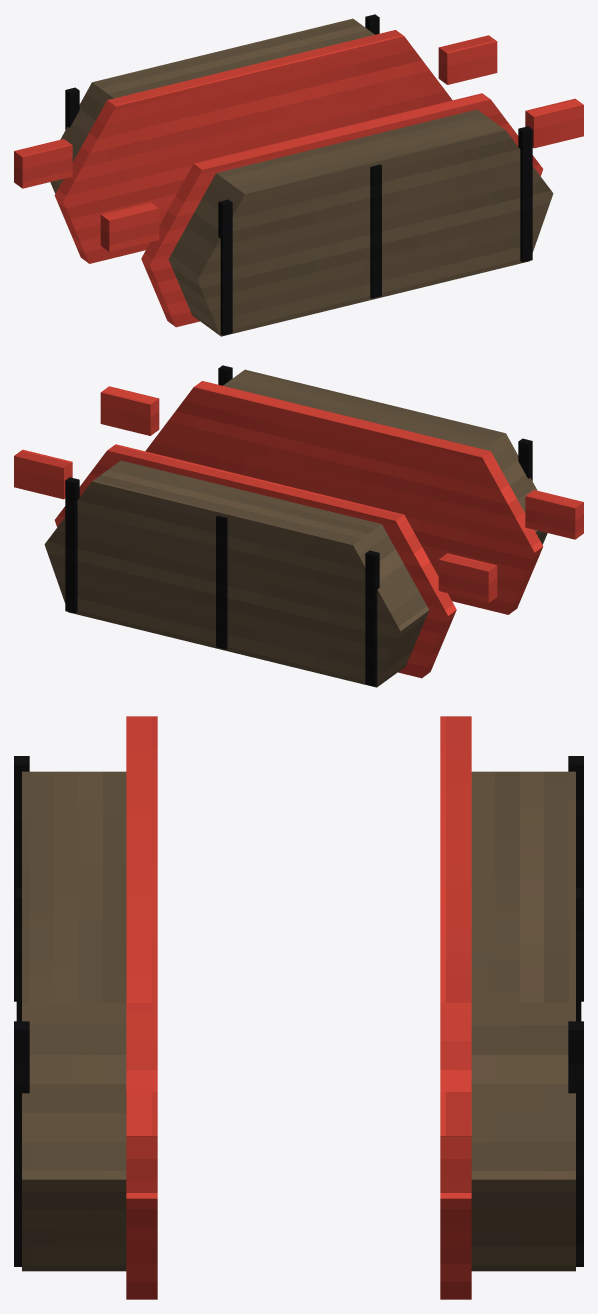
File: pastilhas_n4.glb
3 views of the same model, one above another, from view 1: azimuth 30°, elevation 25°; view 2: azimuth 150°, elevation 25°; view 3: azimuth 270°, elevation 25° (orthographic). The views are drawn at different scales.
Visible parts, largest first — view 1: pastilhas_n4; view 2: pastilhas_n4; view 3: pastilhas_n4.
Part boxes in pixels (x1,y1,x2,y2): pastilhas_n4: (14, 14, 583, 336); pastilhas_n4: (14, 365, 583, 687); pastilhas_n4: (14, 716, 583, 1299).
Bounding box in the file's own units: 0.19 × 0.0577 × 0.109.
Materials: 2 (2 with a texture image).
